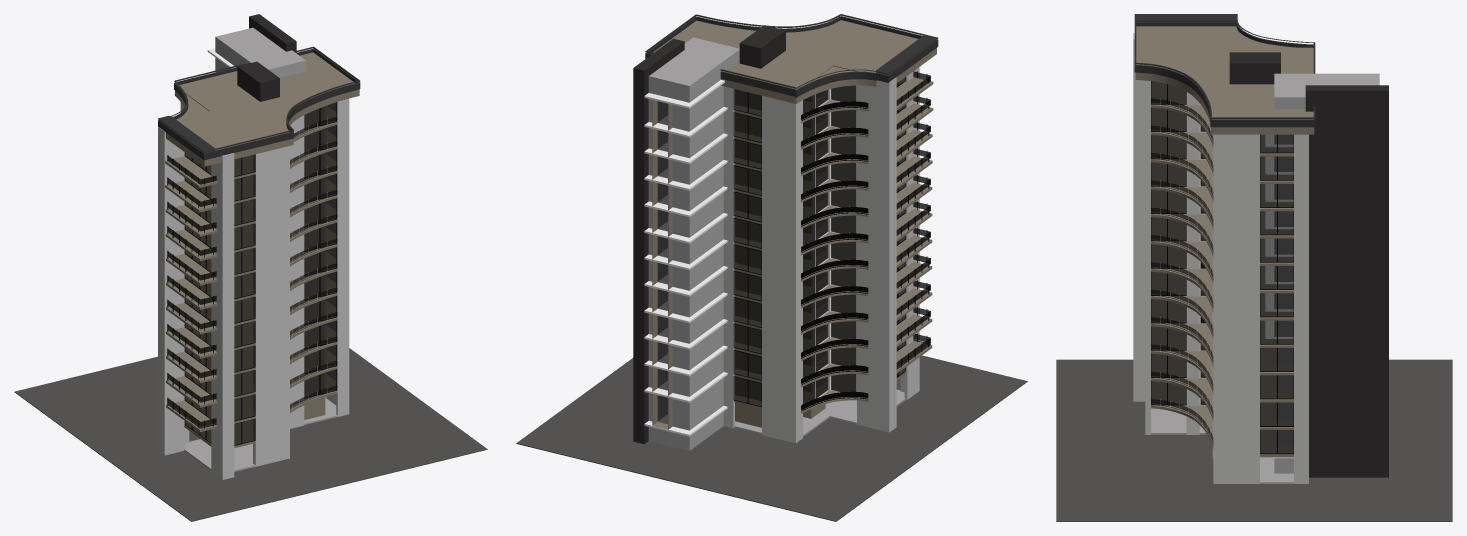
Rendered from residential_tower.glb.
The picture shows the model from 3 angles, left to right: view 1: azimuth 30°, elevation 25°; view 2: azimuth 150°, elevation 25°; view 3: azimuth 270°, elevation 25°; orthographic projection. The views are drawn at different scales.
Visible parts, largest first — view 1: Object_10, Object_9, Object_39, Object_40, Object_20, Object_12, Object_14, Object_26, Object_16, Object_15, Object_22, Object_21 (+1 smaller); view 2: Object_10, Object_9, Object_40, Object_12, Object_39, Object_11, Object_15, Object_20, Object_24, Object_14, Object_26, Object_17 (+6 smaller); view 3: Object_9, Object_15, Object_10, Object_39, Object_40, Object_20, Object_22, Object_12, Object_14, Object_21, Object_24, Object_16 (+1 smaller).
Part boxes in pixels (bbox=[...]): Object_10: bbox=[158, 98, 349, 479]; Object_9: bbox=[14, 348, 487, 521]; Object_39: bbox=[165, 91, 353, 431]; Object_40: bbox=[166, 52, 359, 448]; Object_20: bbox=[185, 102, 337, 445]; Object_12: bbox=[184, 27, 337, 471]; Object_14: bbox=[158, 46, 360, 160]; Object_26: bbox=[168, 156, 216, 428]; Object_16: bbox=[184, 102, 336, 445]; Object_15: bbox=[237, 14, 296, 101]; Object_22: bbox=[185, 234, 337, 443]; Object_21: bbox=[290, 190, 337, 336]; Object_10: bbox=[723, 67, 919, 443]; Object_9: bbox=[516, 355, 1027, 521]; Object_40: bbox=[651, 20, 932, 429]; Object_12: bbox=[648, 37, 905, 450]; Object_39: bbox=[717, 20, 936, 413]; Object_11: bbox=[803, 85, 856, 404]; Object_15: bbox=[633, 25, 785, 444]; Object_20: bbox=[734, 78, 905, 406]; Object_24: bbox=[644, 80, 727, 436]; Object_14: bbox=[645, 14, 938, 97]; Object_26: bbox=[896, 71, 930, 369]; Object_17: bbox=[801, 101, 868, 279]; Object_9: bbox=[1056, 359, 1452, 521]; Object_15: bbox=[1229, 52, 1388, 477]; Object_10: bbox=[1133, 33, 1308, 483]; Object_39: bbox=[1135, 26, 1295, 448]; Object_40: bbox=[1151, 47, 1314, 457]; Object_20: bbox=[1151, 81, 1293, 453]; Object_22: bbox=[1151, 134, 1293, 417]; Object_12: bbox=[1151, 73, 1379, 483]; Object_14: bbox=[1134, 14, 1315, 127]; Object_21: bbox=[1151, 180, 1293, 398]; Object_24: bbox=[1265, 135, 1293, 458]; Object_16: bbox=[1151, 81, 1293, 454].
Size of the model in its own units: 41.84 by 46.97 by 43.37.
